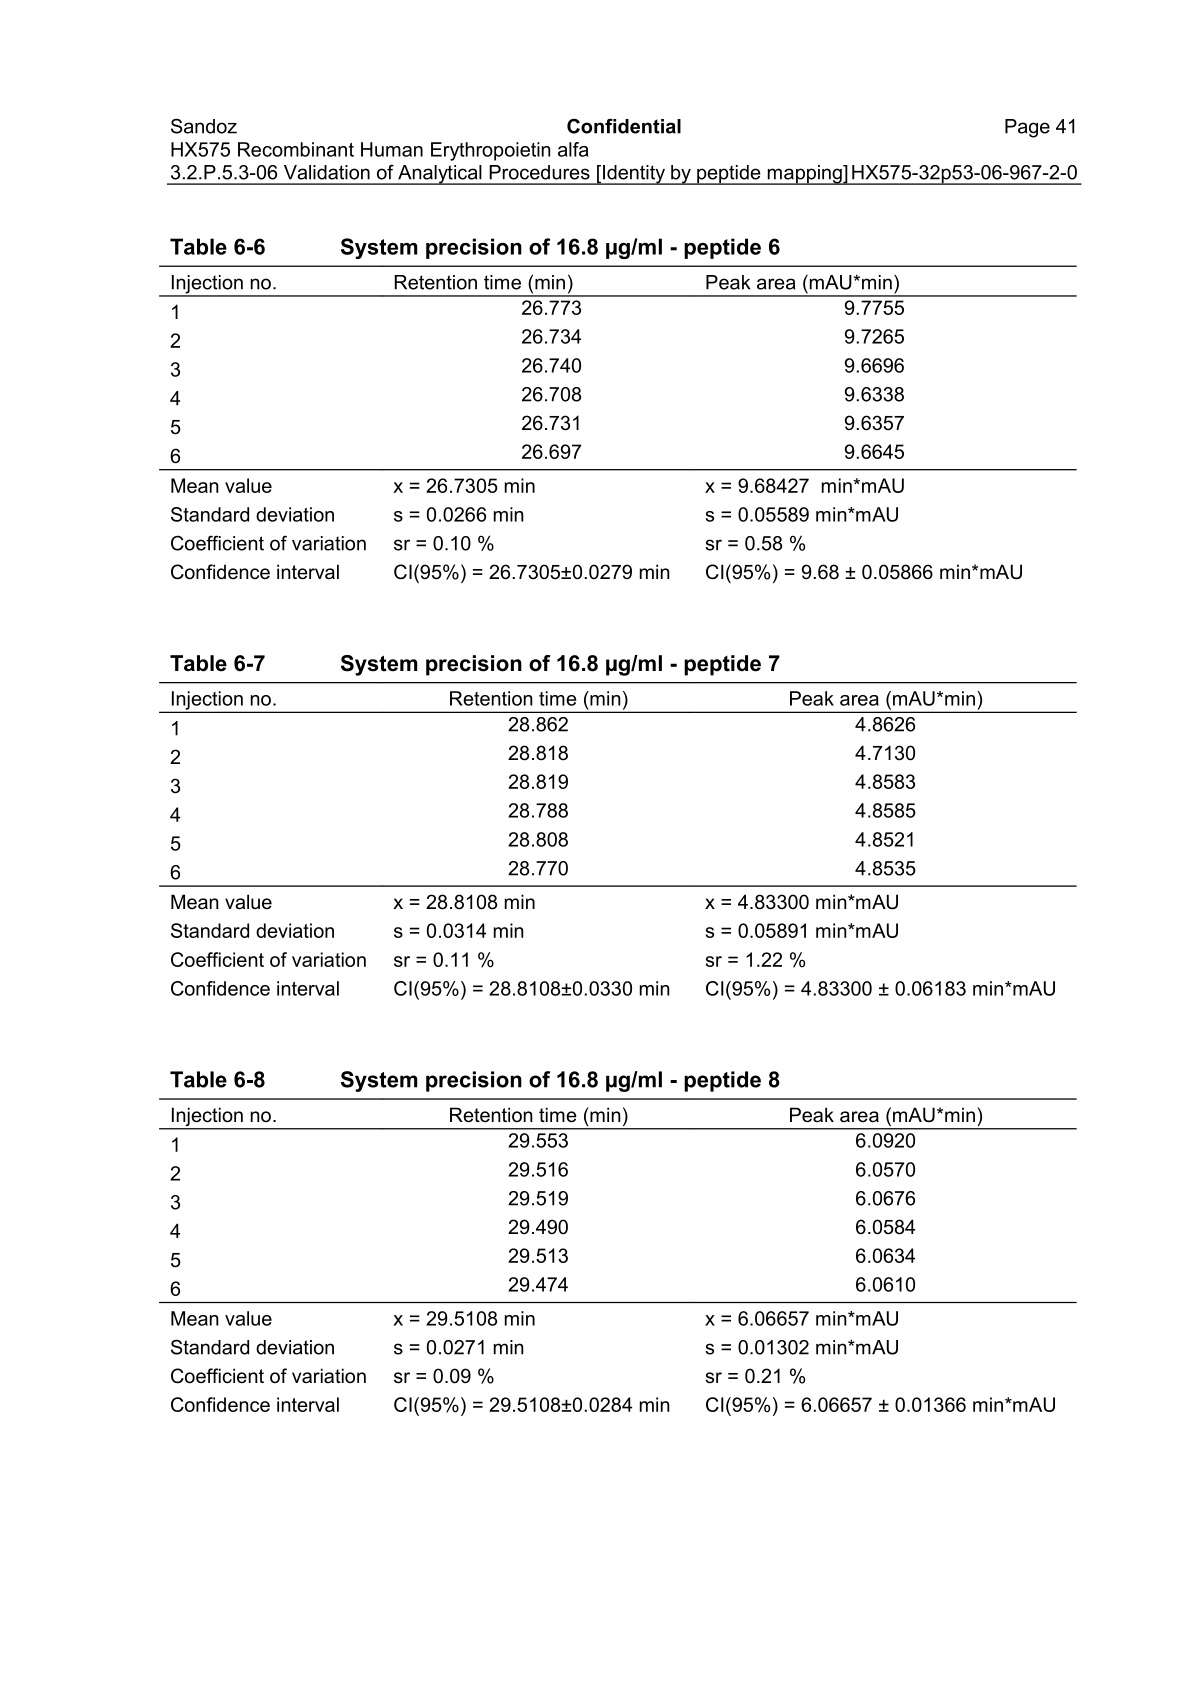partial_lined: (159, 1096, 1078, 1420), (159, 264, 1080, 585), (159, 682, 1078, 999)
